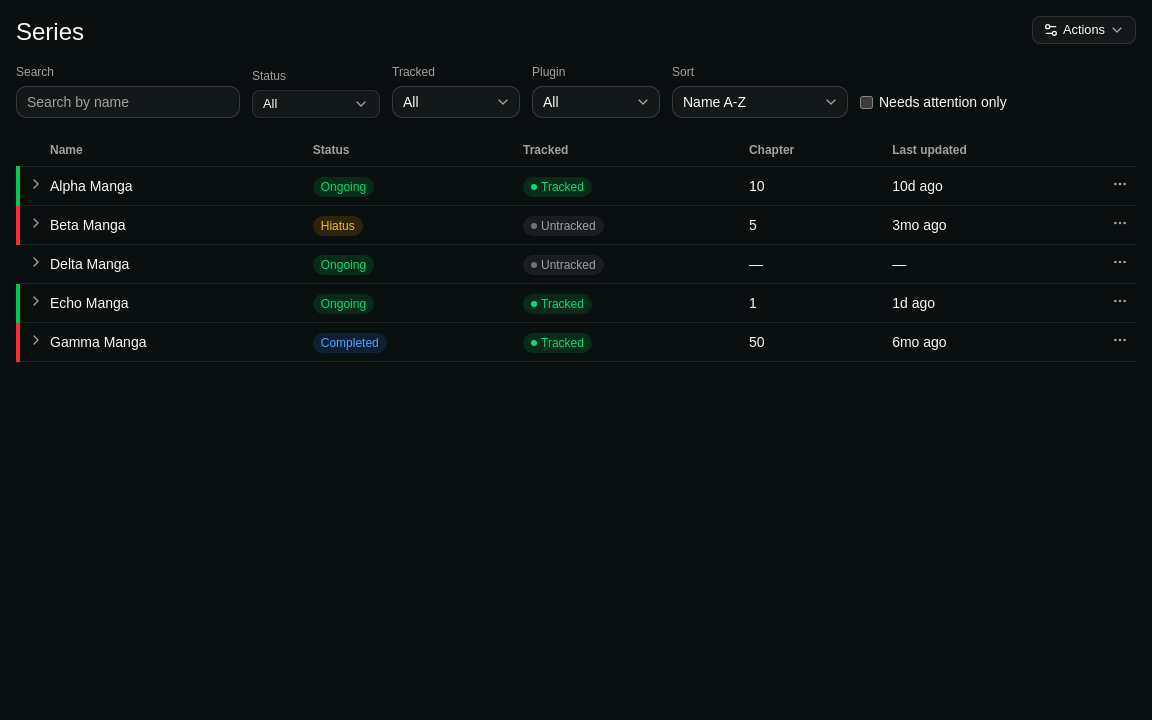
Test case: SeriesPage › shows a busy message when deleting while the scanner is locked
Expected: the link "Alpha Manga" is shown, top-left (50, 178), bottom-right (132, 194)
Click the button named "Actions for Alpha Manga" at coordinates (1120, 184), box top-left (1112, 176), bottom-right (1128, 192)
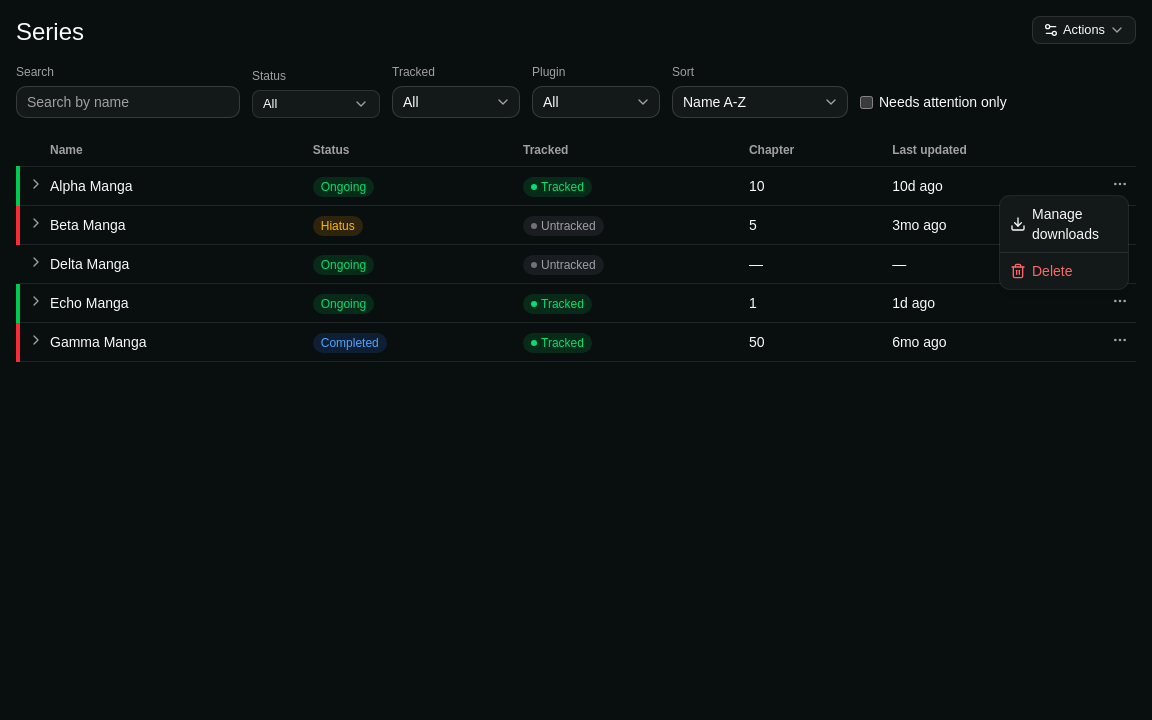
Click the menu item "Delete" at coordinates (1041, 271), box top-left (1010, 263), bottom-right (1072, 279)
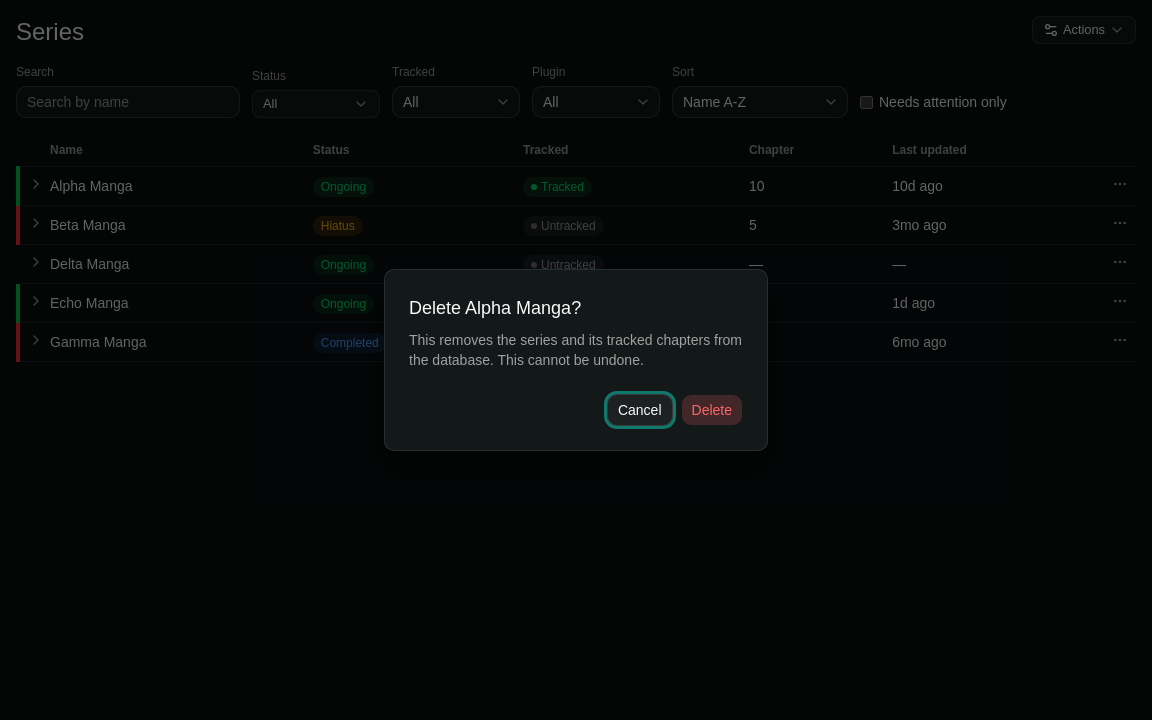
Click the button "Delete" at coordinates (712, 410), box top-left (680, 394), bottom-right (743, 426)
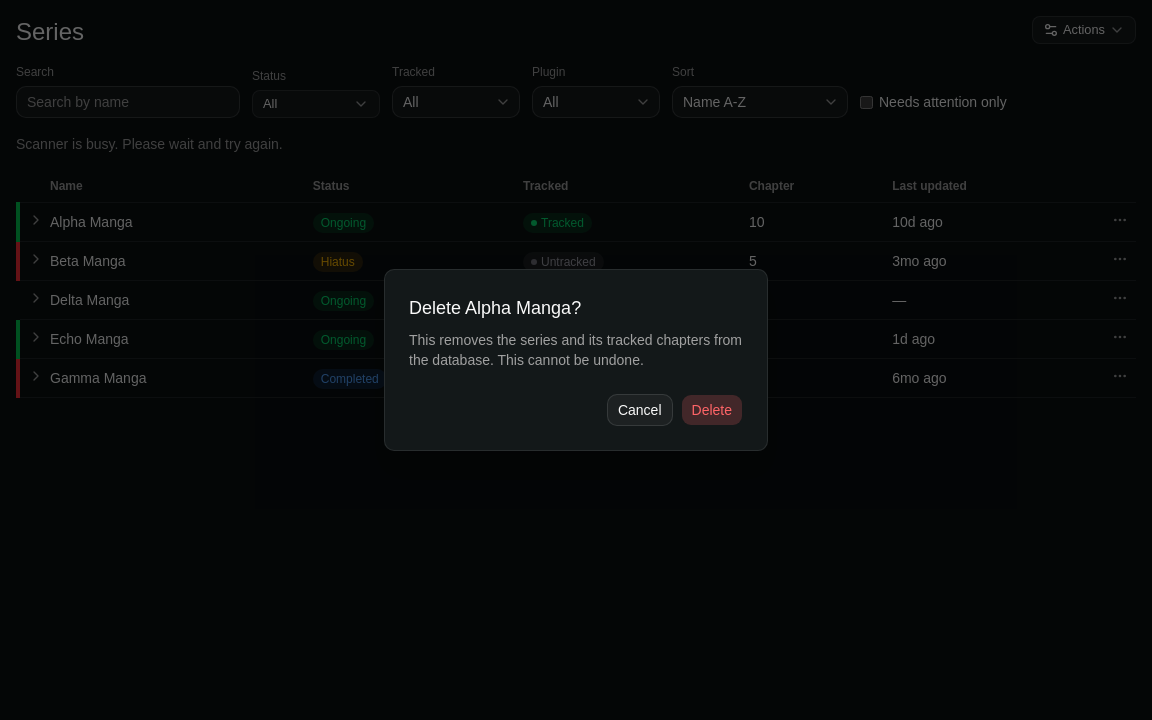
Expected: the text "Scanner is busy. Please wait and try again." is shown, top-left (16, 136), bottom-right (283, 152)
